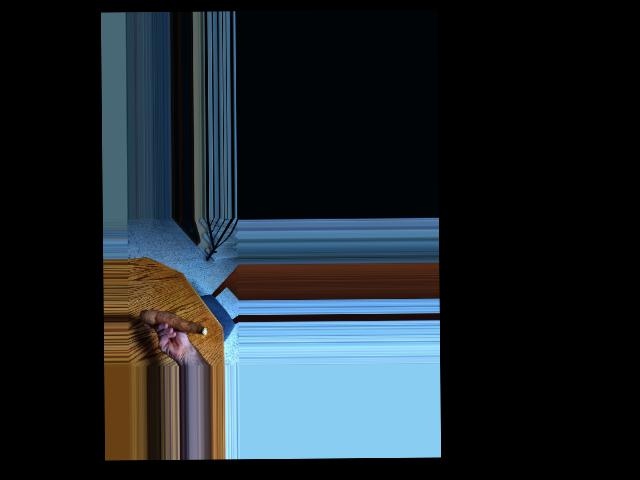sweet_potato: (141, 306, 208, 336)
